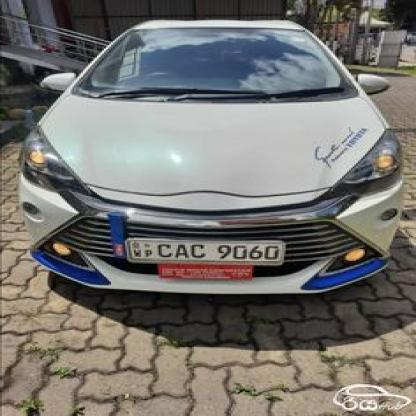car front: (15, 16, 407, 308)
number plate: (126, 239, 286, 262)
